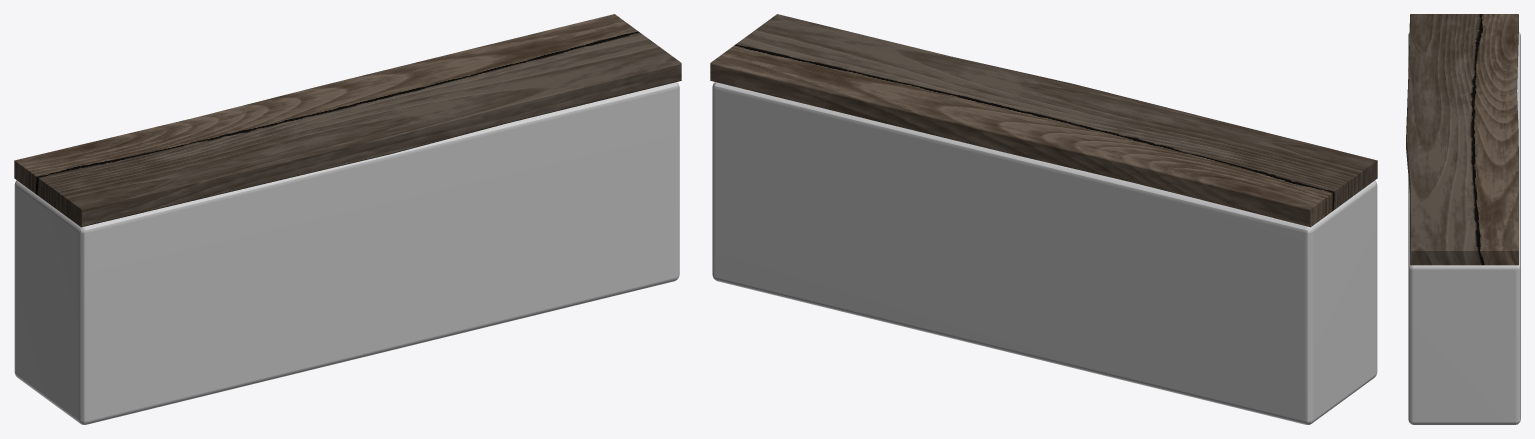
Rendered from SM_Foundation_Small.fbx.
The picture shows the model from 3 angles, left to right: view 1: azimuth 30°, elevation 25°; view 2: azimuth 150°, elevation 25°; view 3: azimuth 270°, elevation 25°; orthographic projection. The views are drawn at different scales.
Visible parts, largest first — view 1: SM_Foundation_Small; view 2: SM_Foundation_Small; view 3: SM_Foundation_Small.
Part boxes in pixels (x1,y1,x2,y2): SM_Foundation_Small: (14, 14, 681, 424); SM_Foundation_Small: (710, 14, 1377, 424); SM_Foundation_Small: (1406, 14, 1520, 424).
Bounding box in the file's own units: 299 × 104 × 61.12.
